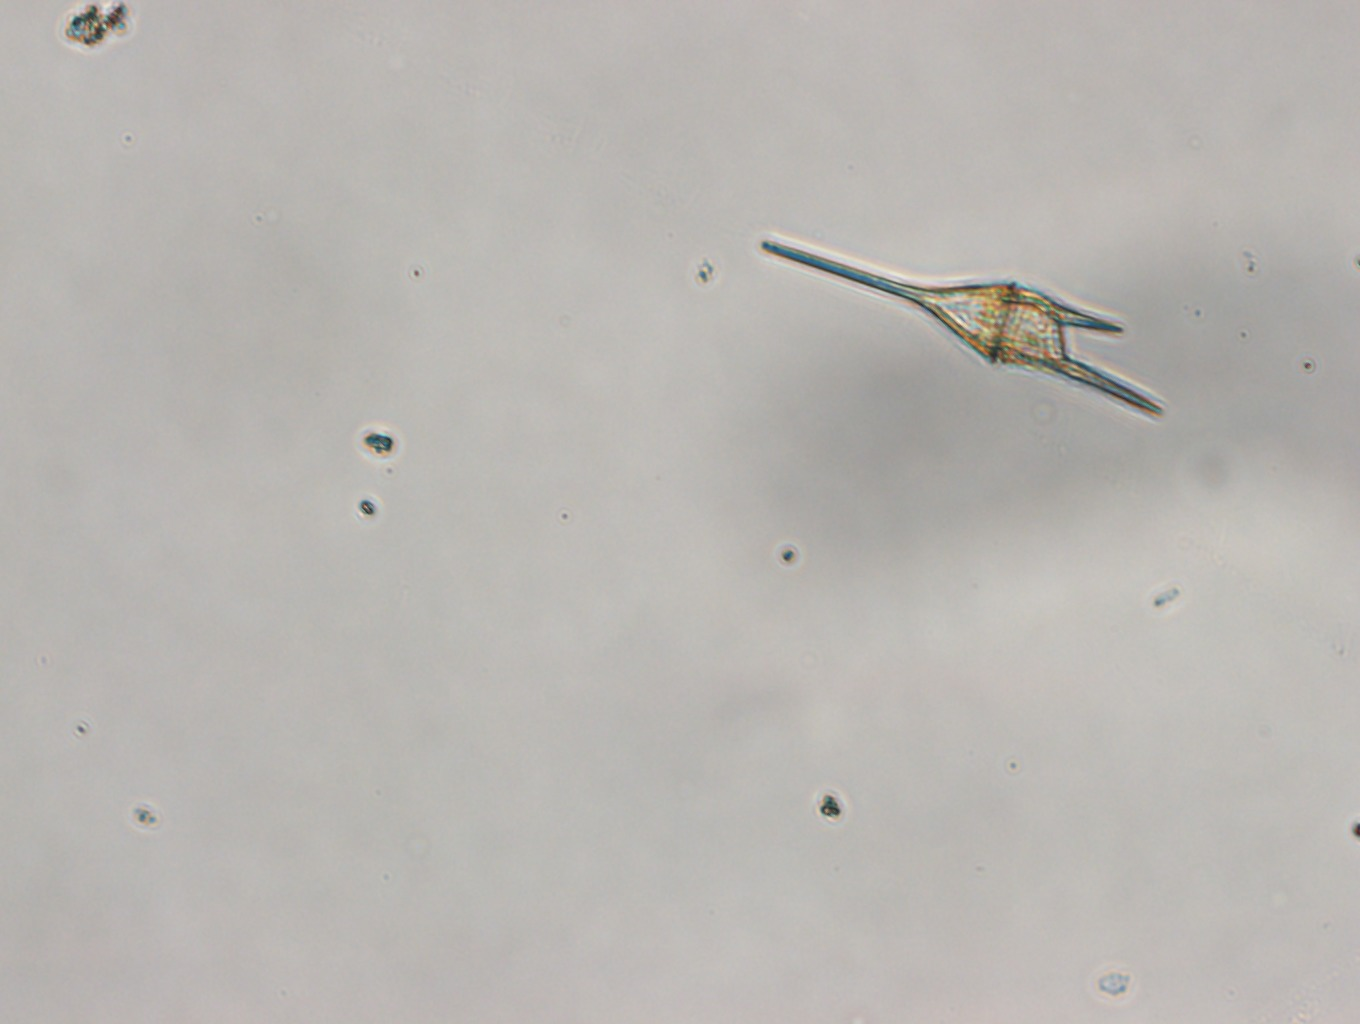ceratium furca: (759, 240, 1164, 418)
